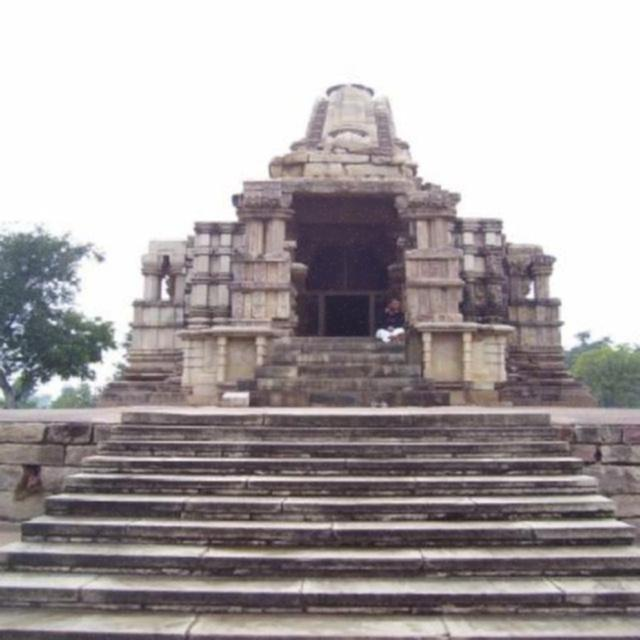stair: (0, 406, 640, 640), (246, 335, 452, 403)
